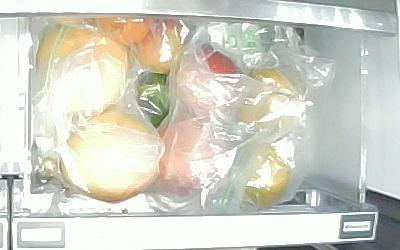apple_vinyl: (157, 113, 232, 198), (175, 46, 241, 112)
grapefruit_vinyl: (62, 110, 159, 202), (35, 22, 132, 112)
persimmon_vinyl: (237, 65, 301, 131), (239, 145, 290, 210)
prune_vinyl: (132, 18, 186, 73), (97, 17, 156, 46)
